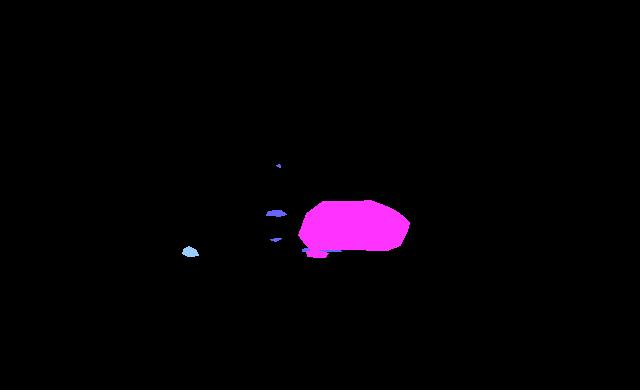Corrosion: (182, 246, 198, 256)
Dent: (298, 200, 409, 250), (306, 250, 328, 257)
Scratch: (302, 246, 341, 253), (266, 210, 286, 216), (270, 238, 281, 241), (276, 164, 280, 167)
